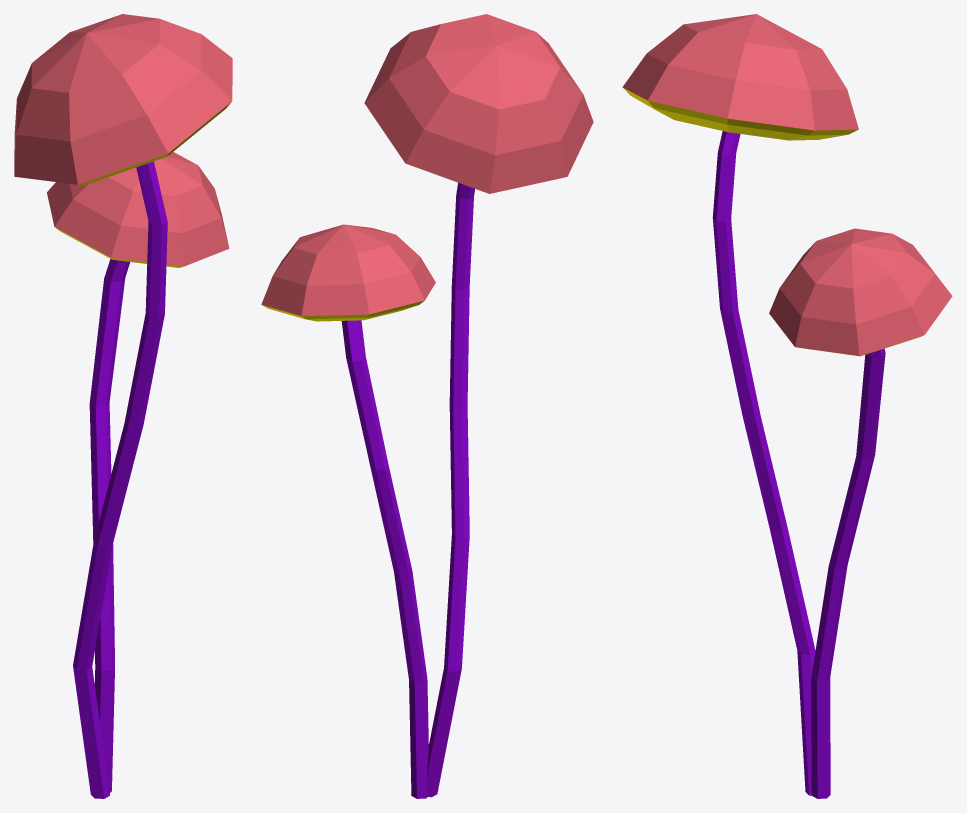
File: tree-mushroom-medium.fbx
3 views of the same model, side by side, from view 1: azimuth 30°, elevation 25°; view 2: azimuth 150°, elevation 25°; view 3: azimuth 270°, elevation 25° (orthographic). The views are drawn at different scales.
Visible parts, largest first — view 1: tree-mushroom-medium; view 2: tree-mushroom-medium; view 3: tree-mushroom-medium.
Part boxes in pixels (box(x1,y1,x2,y2)): tree-mushroom-medium: box(14, 14, 232, 798); tree-mushroom-medium: box(261, 14, 593, 798); tree-mushroom-medium: box(622, 14, 952, 798).
Bounding box in the file's own units: 1.11 × 3.22 × 1.27.
